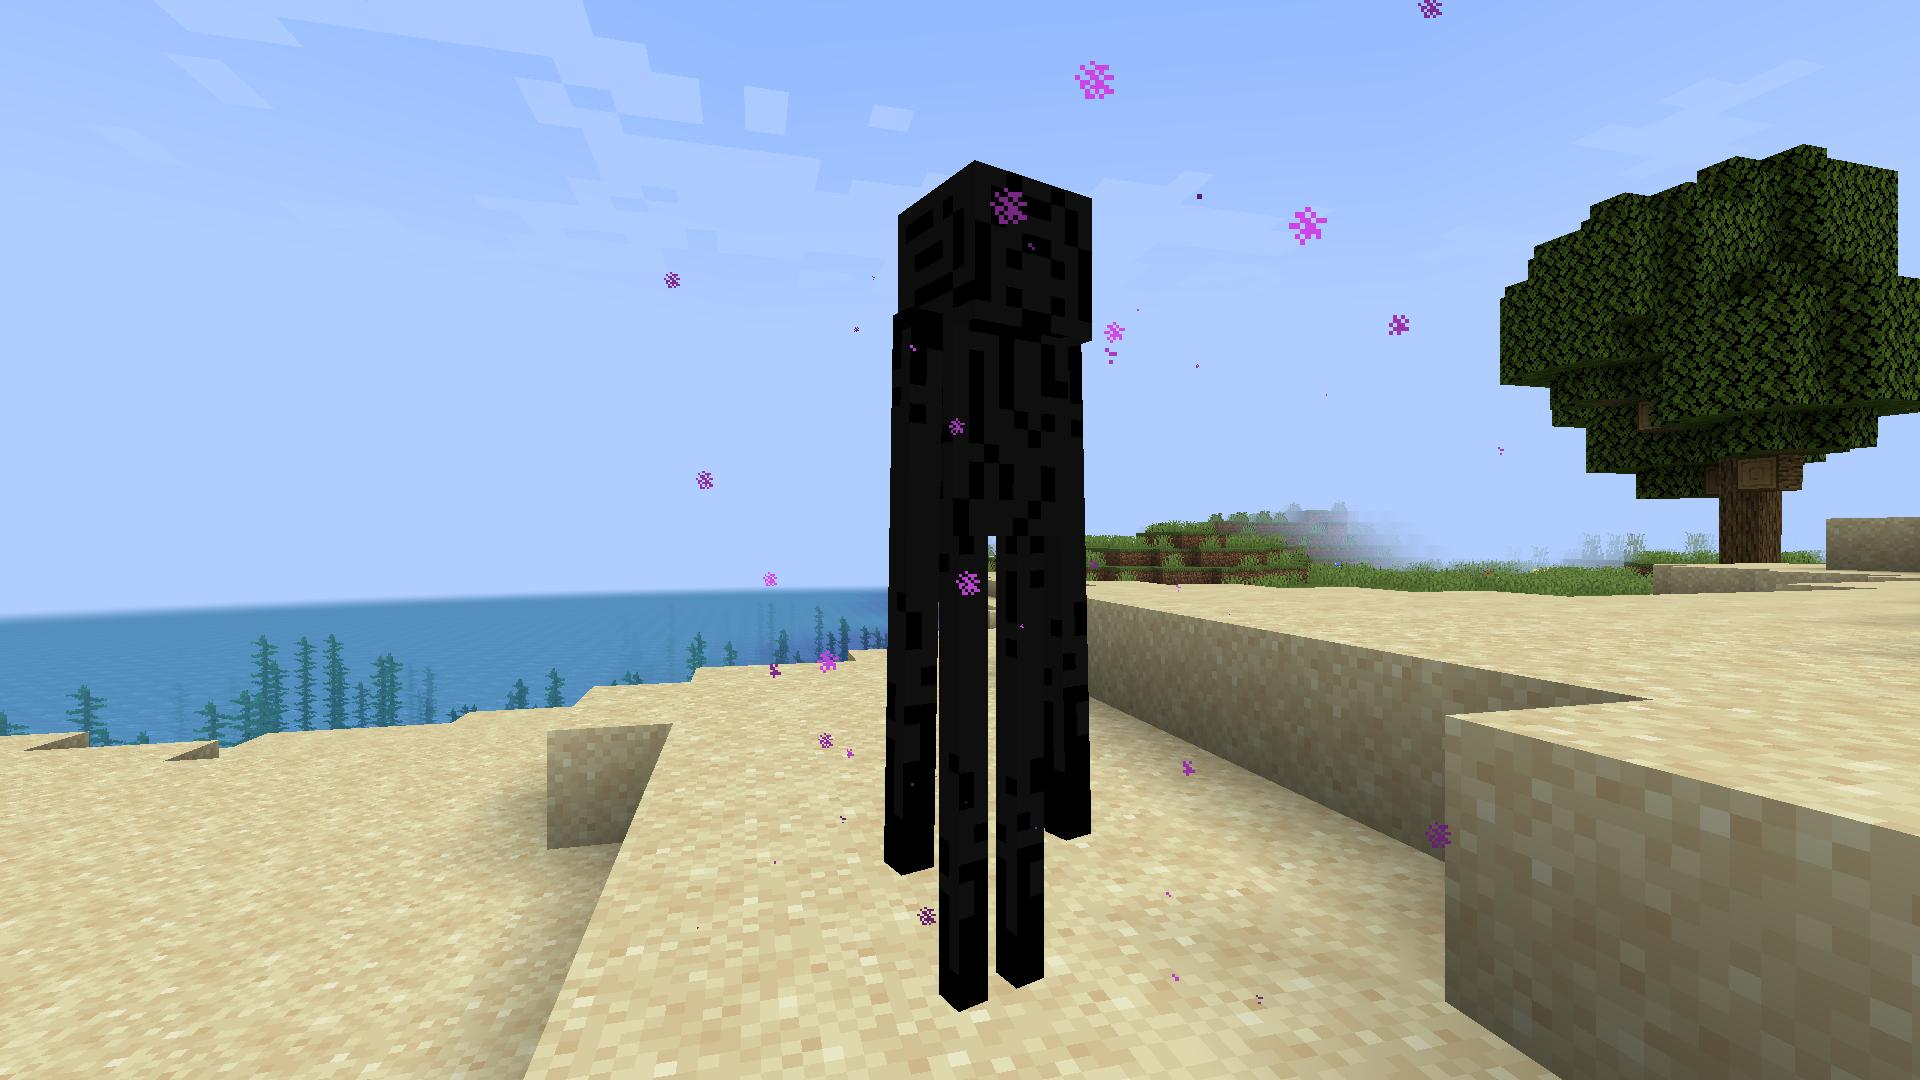enderman: (878, 146, 1106, 1015)
